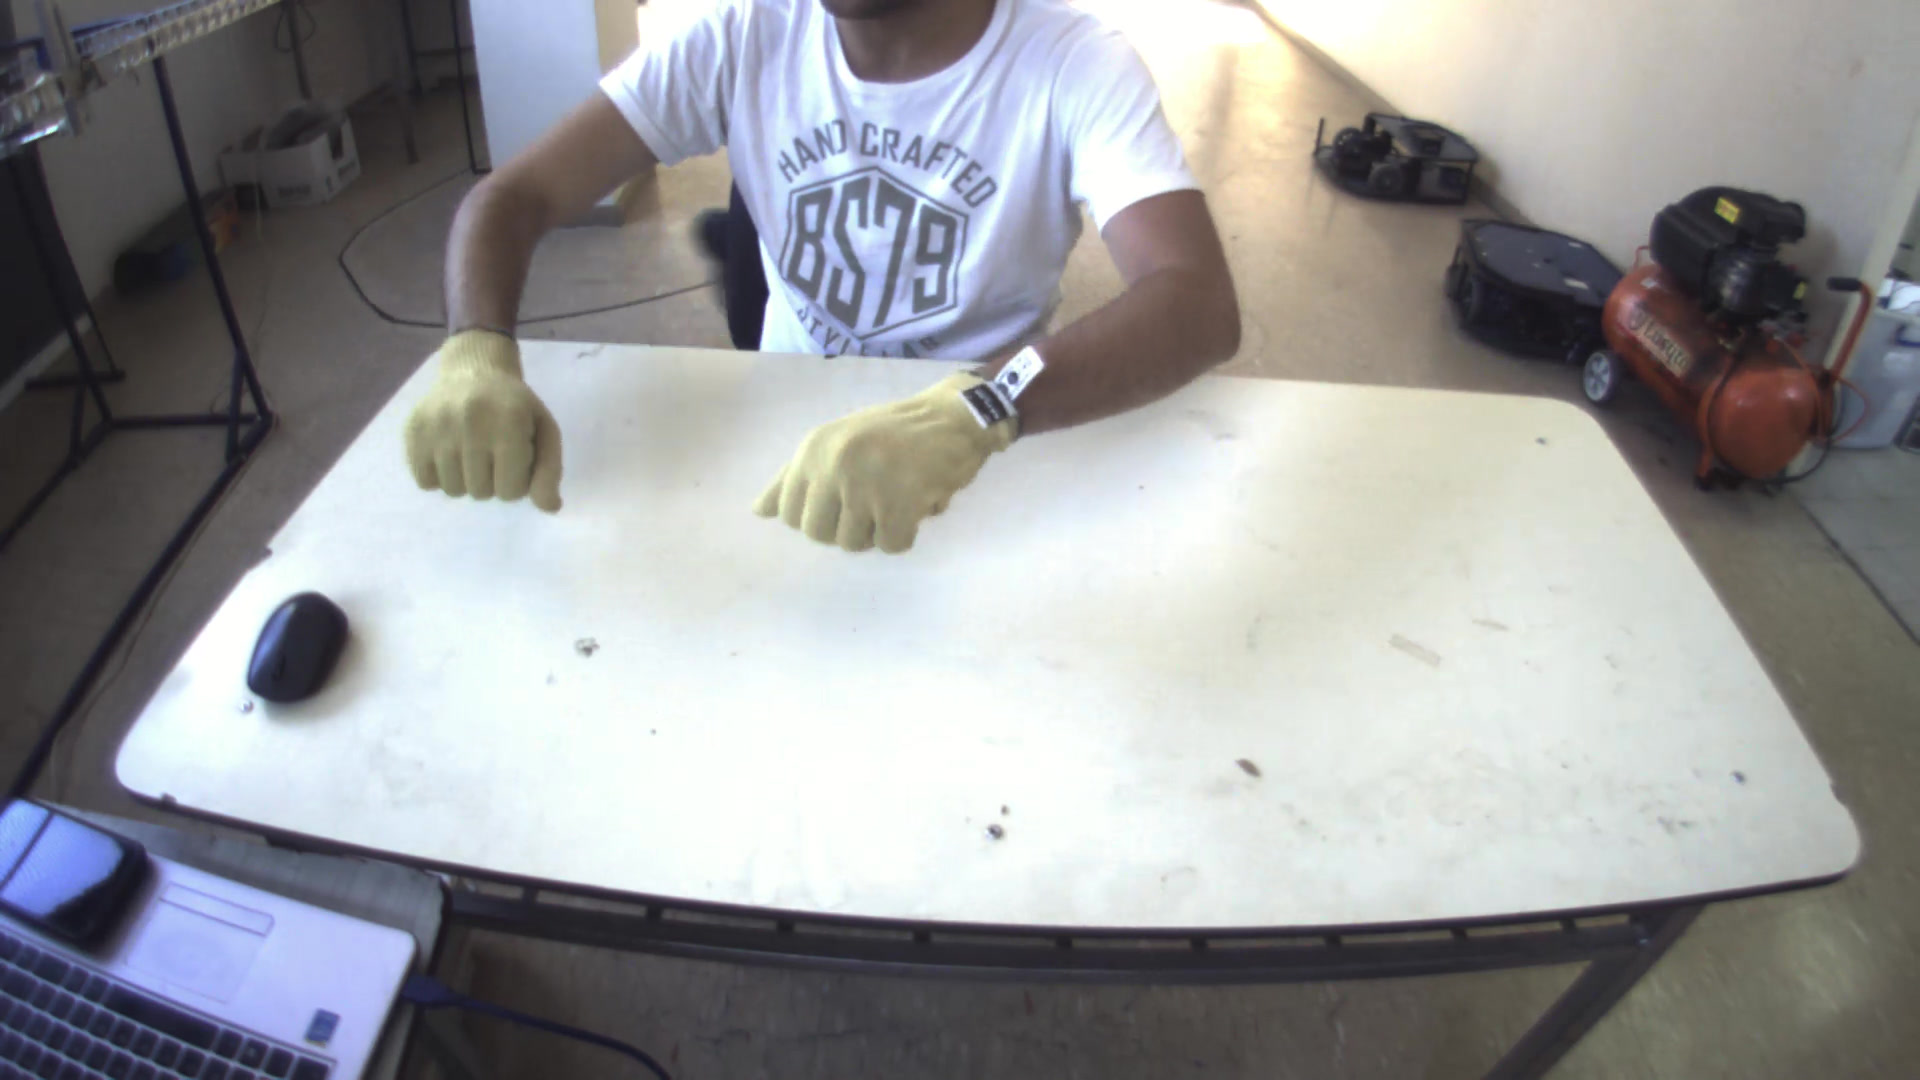hand: (741, 357, 1031, 564), (386, 313, 564, 509)
